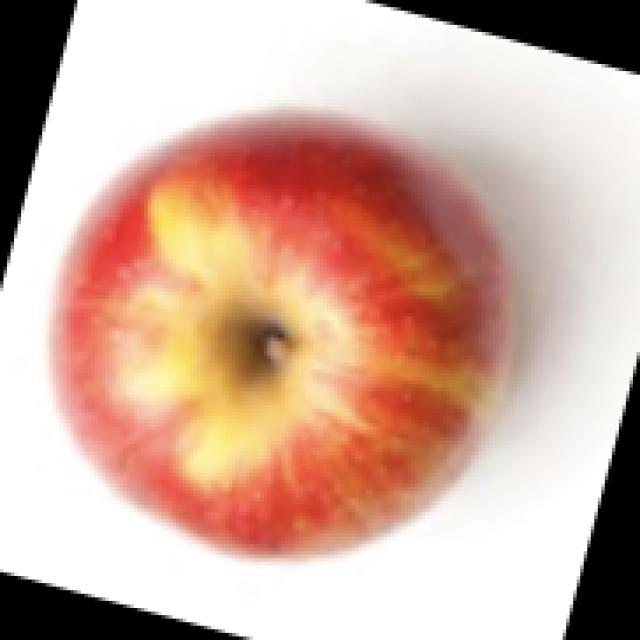Fresh Apple: (46, 105, 512, 565)
